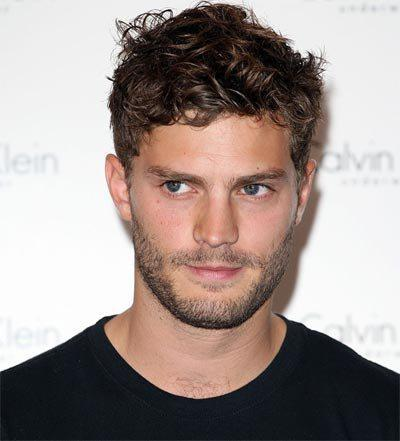Sober: (133, 103, 296, 321)
